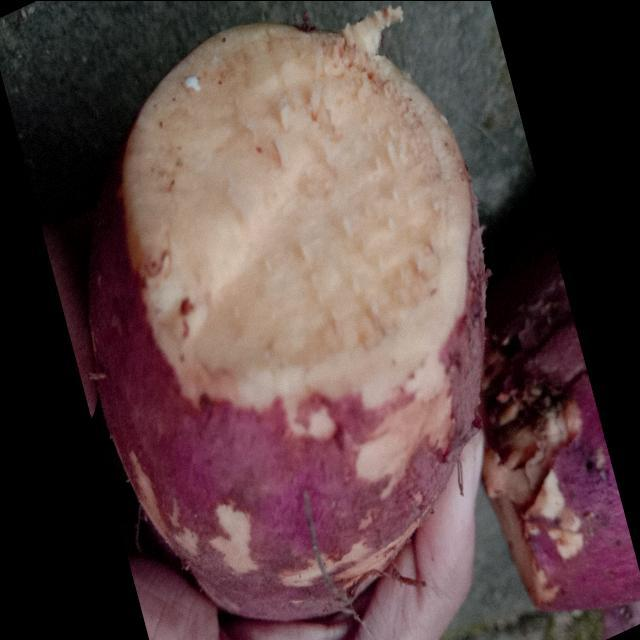Healthy Sweet Potato: (124, 8, 470, 407)
